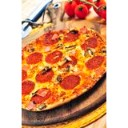pepperonipizza: (22, 31, 108, 111)
